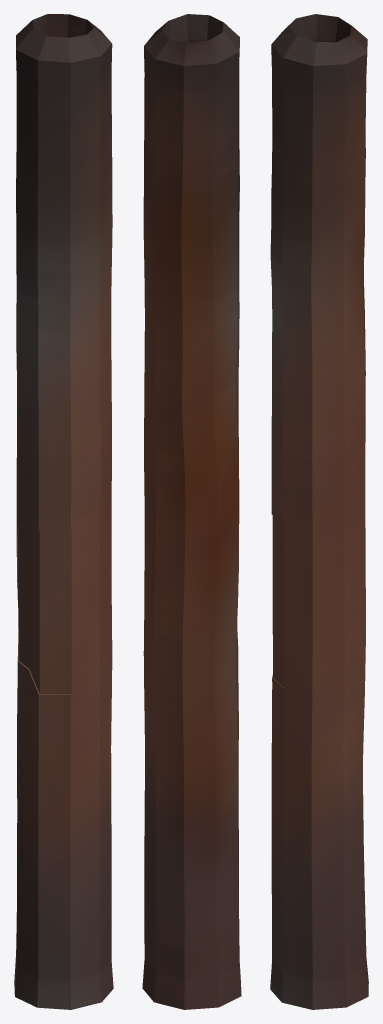
File: Tuyau cassé ok.fbx
3 views of the same model, side by side, from view 1: azimuth 30°, elevation 25°; view 2: azimuth 210°, elevation 25°; view 3: azimuth 330°, elevation 25° (orthographic).
Visible parts, largest first — view 1: Tuyau cassé, Tuyau origine; view 2: Tuyau origine, Tuyau cassé; view 3: Tuyau origine, Tuyau cassé.
Boxes of the visible parts, x1,y1,x2,y2 form: Tuyau cassé: (14, 14, 99, 1009); Tuyau origine: (18, 14, 113, 1009); Tuyau origine: (142, 14, 237, 1009); Tuyau cassé: (162, 14, 241, 1007); Tuyau origine: (272, 14, 368, 1009); Tuyau cassé: (270, 14, 351, 1002).
Size of the model in its own units: 0.6695 by 7.08 by 0.6536.
